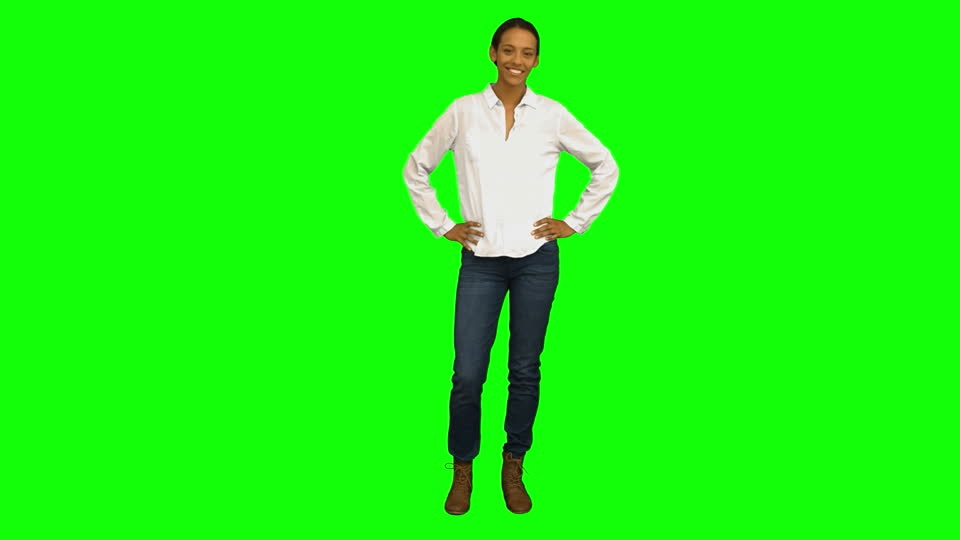arm: (398, 100, 467, 240), (550, 95, 622, 229)
chest: (462, 96, 546, 254)
face: (489, 10, 541, 80)
foot: (500, 460, 539, 516), (438, 461, 476, 518)
hand: (446, 211, 480, 251), (536, 215, 577, 239)
leg: (393, 252, 498, 450), (503, 253, 603, 453)
neck: (495, 76, 529, 98)
